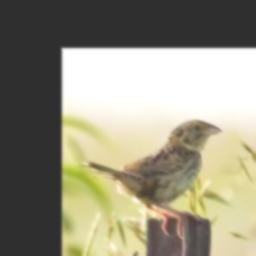Sparrow: (74, 118, 224, 239)
